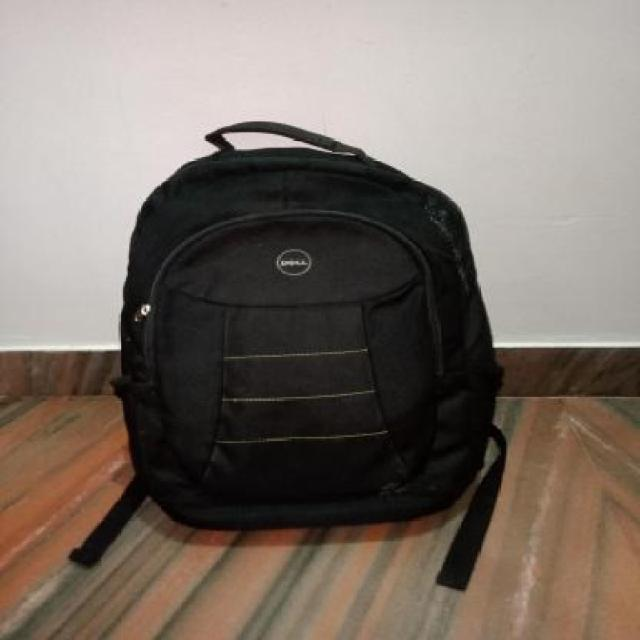backpack: (106, 114, 512, 537)
